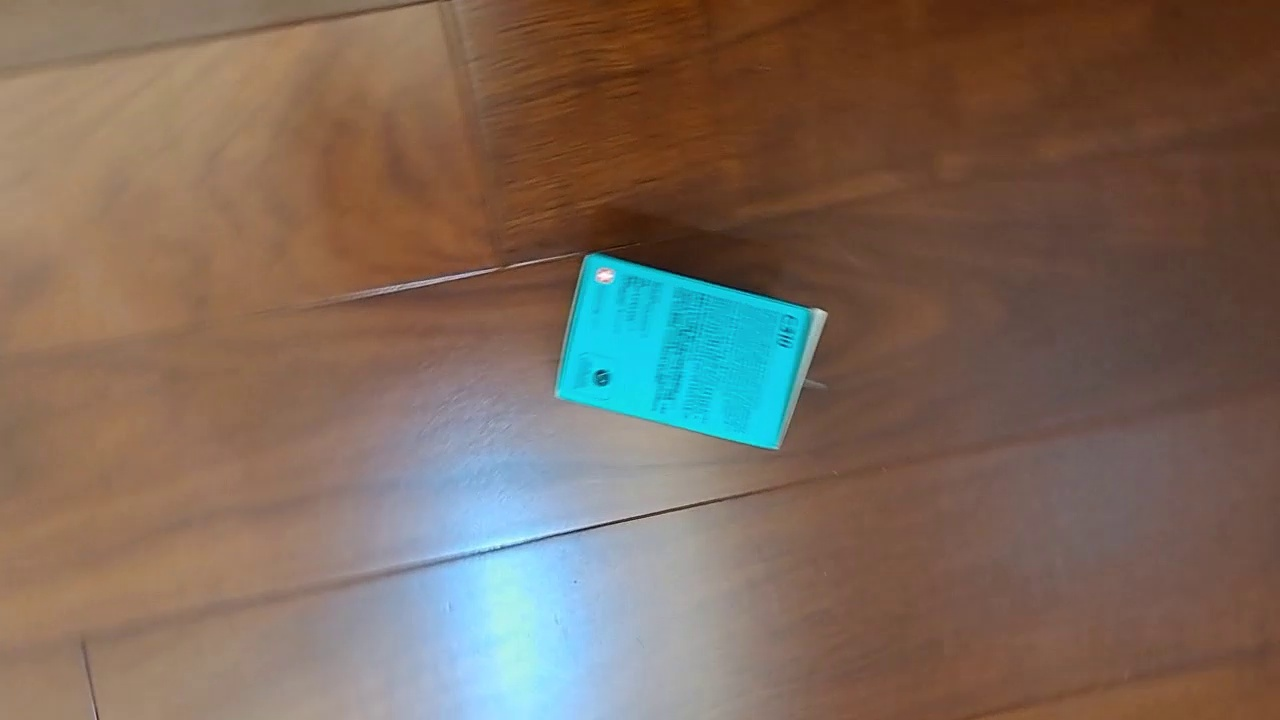webcam: (552, 250, 829, 452)
